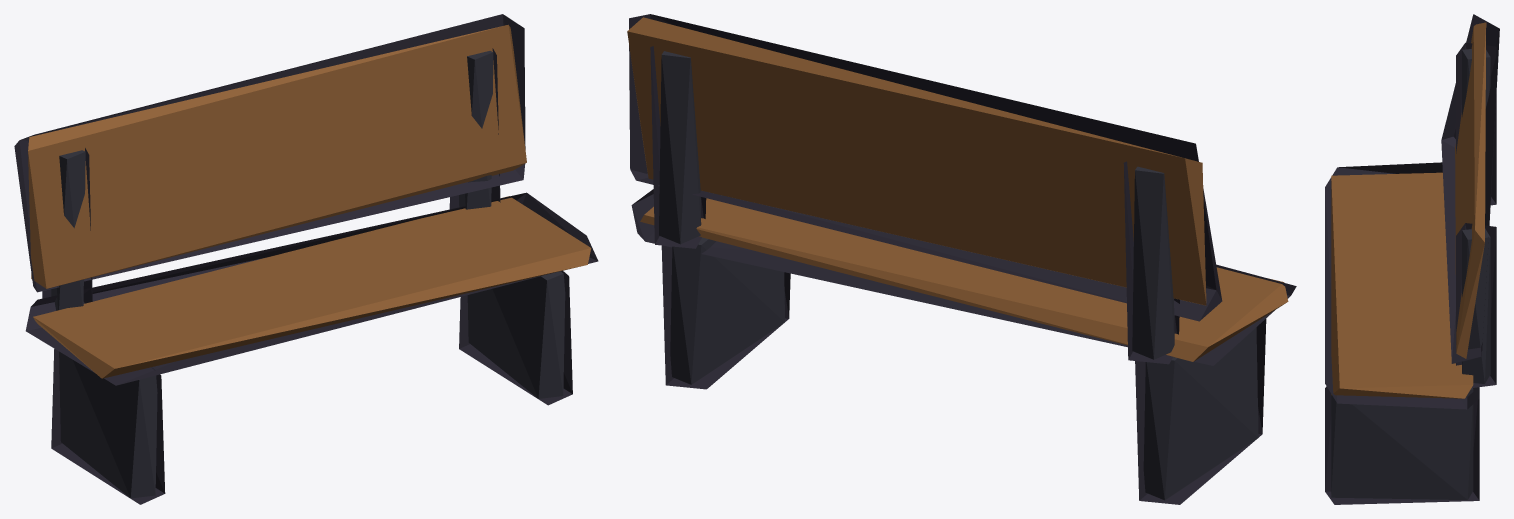
The model's file is bench-lod1.glb.
The picture shows the model from 3 angles, left to right: view 1: azimuth 30°, elevation 25°; view 2: azimuth 150°, elevation 25°; view 3: azimuth 270°, elevation 25°; orthographic projection. The views are drawn at different scales.
Parts seen in each view (by area): view 1: bench; view 2: bench; view 3: bench.
Boxes of the visible parts, x1,y1,x2,y2 form: bench: (14, 14, 598, 504); bench: (627, 14, 1296, 504); bench: (1325, 14, 1499, 504).
Size of the model in its own units: 1.84 by 1.11 by 0.615.
